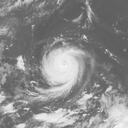cyclone: (41, 46, 85, 87)
